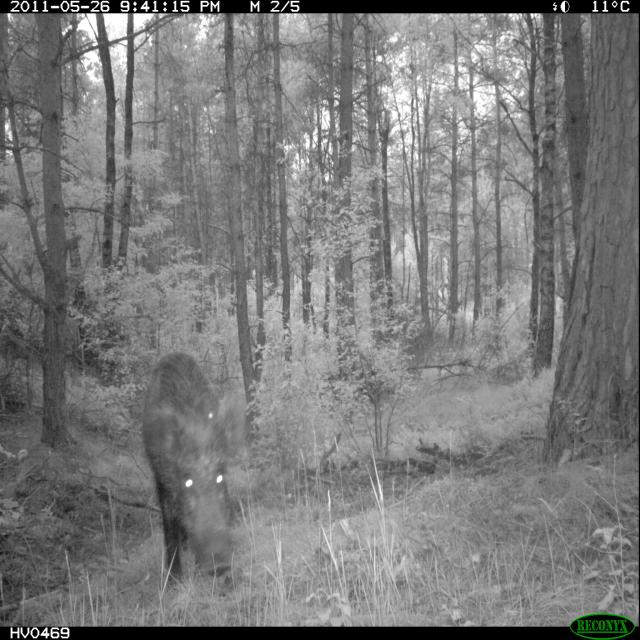boar: (123, 314, 249, 623)
